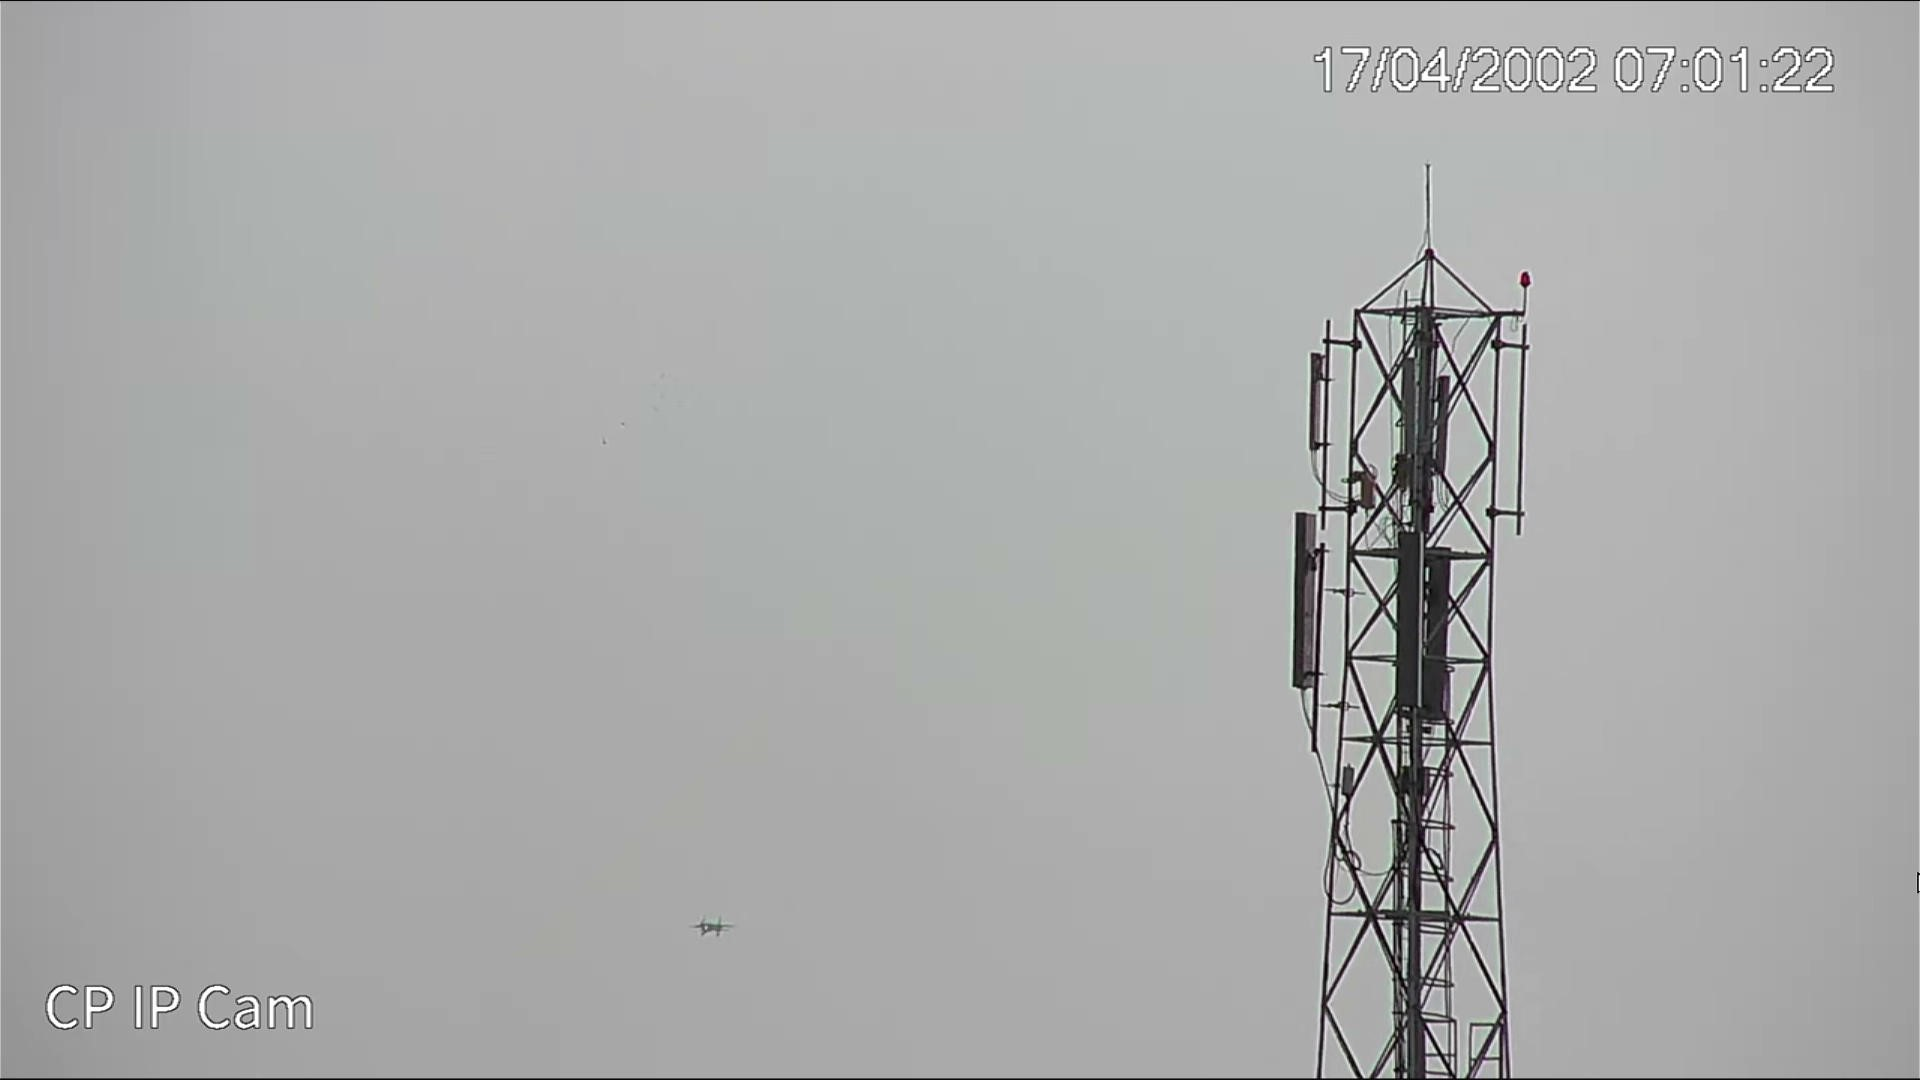SU_30: (691, 915, 736, 938)
